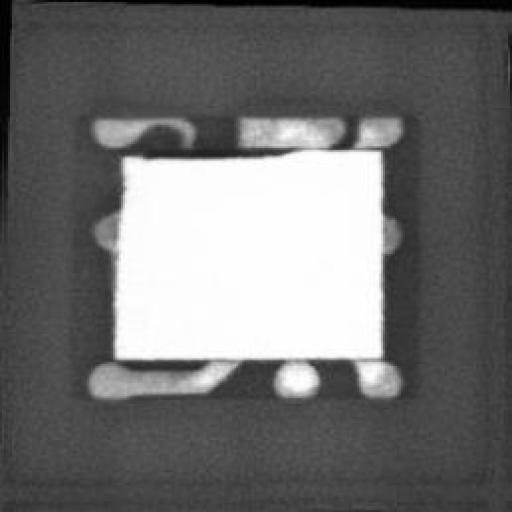DIE_BROKEN: (135, 142, 300, 160)
